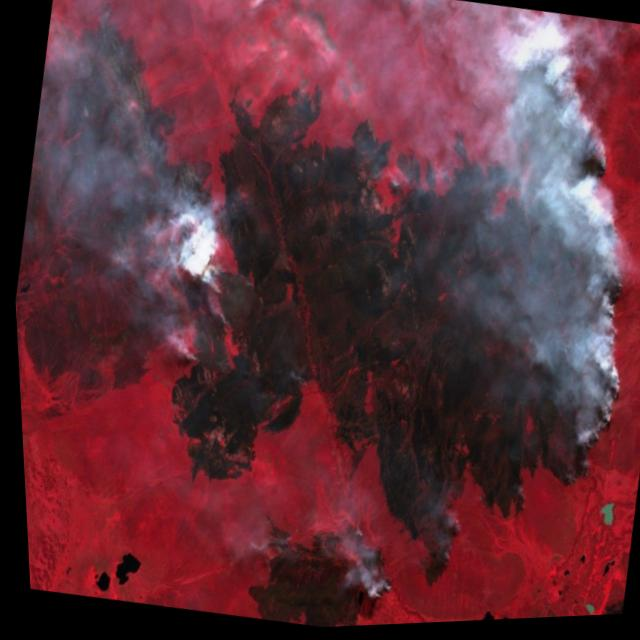fire: (421, 18, 640, 476), (136, 181, 253, 393), (344, 553, 402, 629)
